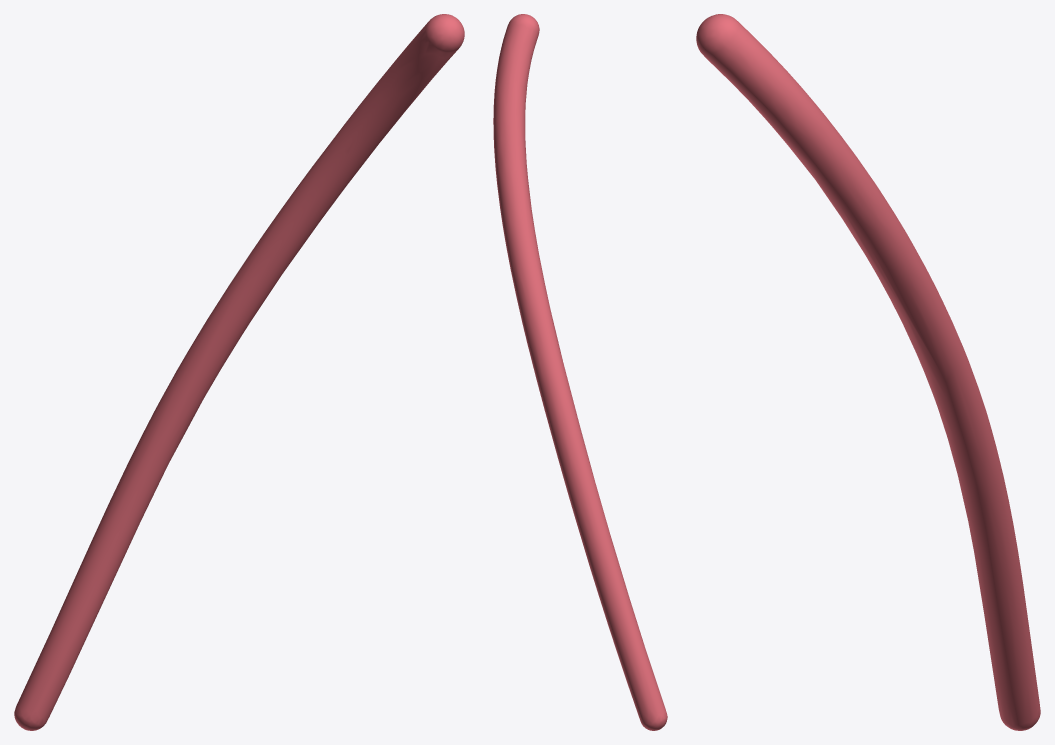
The model's file is fma22696_fj2277.glb.
The picture shows the model from 3 angles, left to right: view 1: azimuth 30°, elevation 25°; view 2: azimuth 150°, elevation 25°; view 3: azimuth 270°, elevation 25°; orthographic projection. The views are drawn at different scales.
Parts seen in each view (by area): view 1: FMA22696_FJ2277; view 2: FMA22696_FJ2277; view 3: FMA22696_FJ2277.
Boxes of the visible parts, bbox=[...] form: FMA22696_FJ2277: bbox=[14, 14, 464, 730]; FMA22696_FJ2277: bbox=[493, 14, 667, 730]; FMA22696_FJ2277: bbox=[696, 14, 1040, 730].
Bounding box in the file's own units: 0.0317 × 0.0693 × 0.0246.
